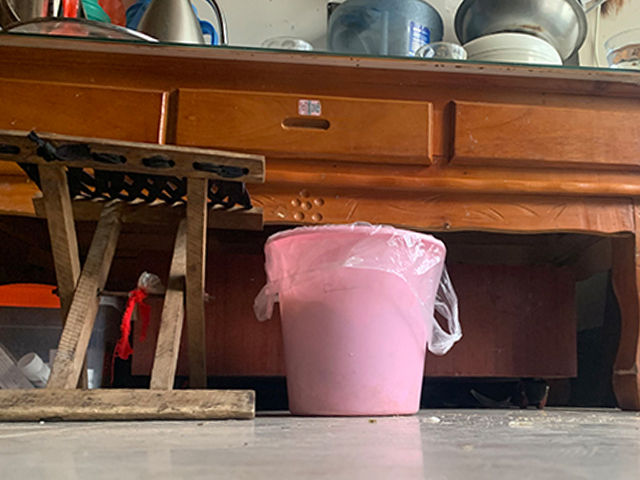stool: (2, 130, 268, 423)
table: (1, 29, 640, 412)
trashcan: (264, 223, 447, 417)
